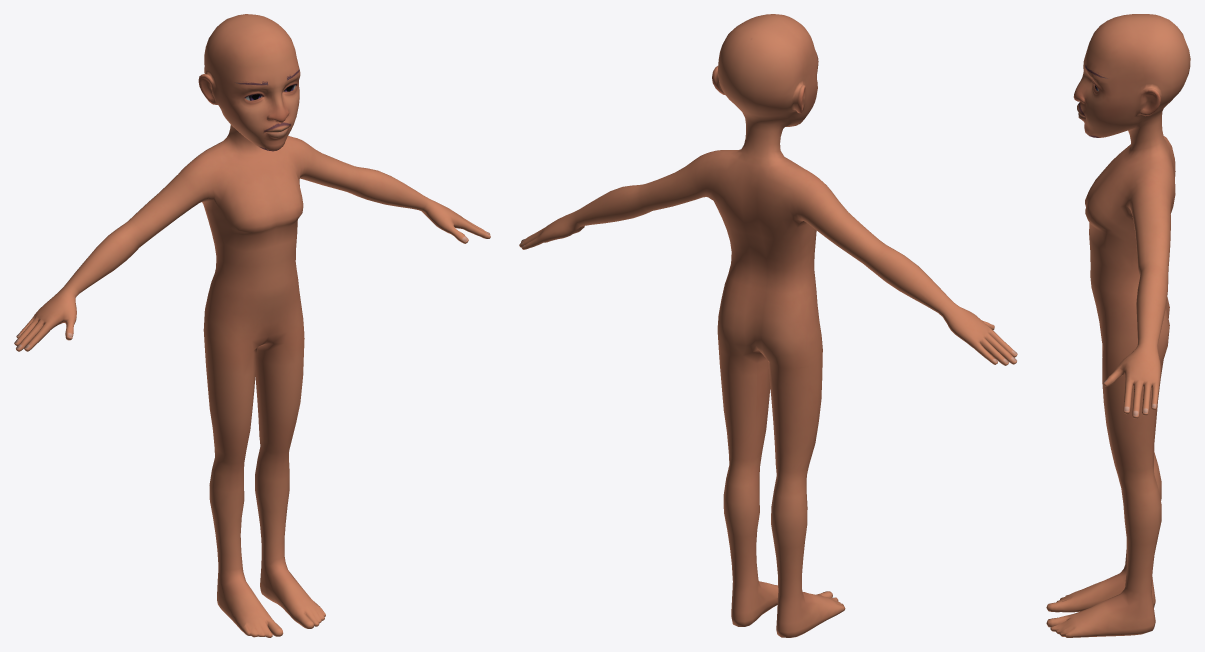
The model's file is frame_0055.glb.
The picture shows the model from 3 angles, left to right: view 1: azimuth 30°, elevation 25°; view 2: azimuth 150°, elevation 25°; view 3: azimuth 270°, elevation 25°; orthographic projection. The views are drawn at different scales.
Parts seen in each view (by area): view 1: frame_0055_head_geo; view 2: frame_0055_head_geo; view 3: frame_0055_head_geo.
Boxes of the visible parts, x1,y1,x2,y2 form: frame_0055_head_geo: [14, 14, 490, 637]; frame_0055_head_geo: [519, 14, 1017, 637]; frame_0055_head_geo: [1046, 14, 1190, 637].
Bounding box in the file's own units: 1.28 × 1.5 × 0.3253.
Materials: 3 (3 with a texture image).
